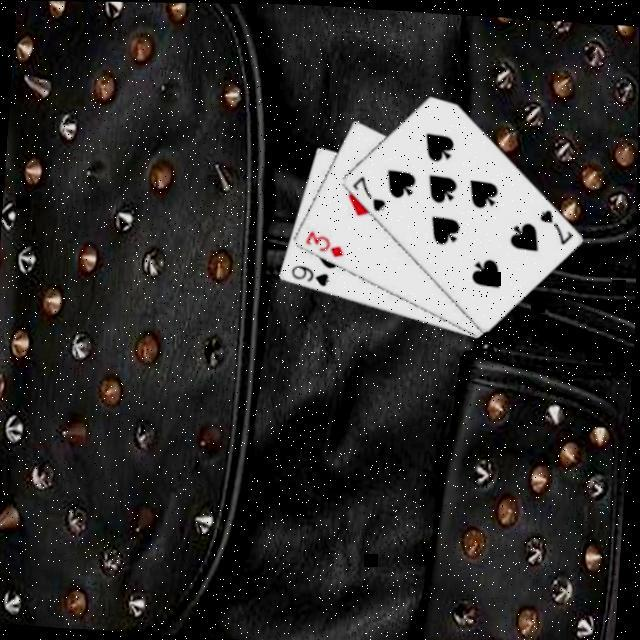3D: (301, 227, 348, 262)
7S: (347, 172, 389, 214), (534, 205, 576, 247)
9S: (287, 262, 333, 290)
